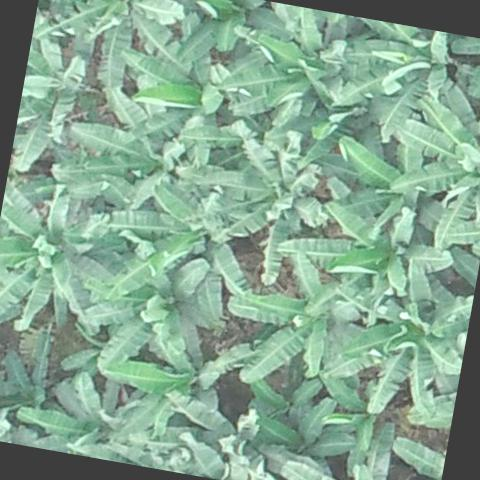Banana-plant: (318, 250, 478, 428), (96, 176, 262, 322), (270, 192, 459, 318), (195, 126, 332, 294), (216, 252, 364, 401), (73, 246, 224, 388), (58, 97, 225, 223), (333, 16, 480, 155), (108, 7, 255, 142), (0, 179, 123, 334), (217, 0, 361, 129), (378, 87, 480, 264), (9, 360, 160, 467), (25, 0, 187, 99), (143, 384, 283, 480), (9, 38, 85, 178), (246, 389, 355, 480)
